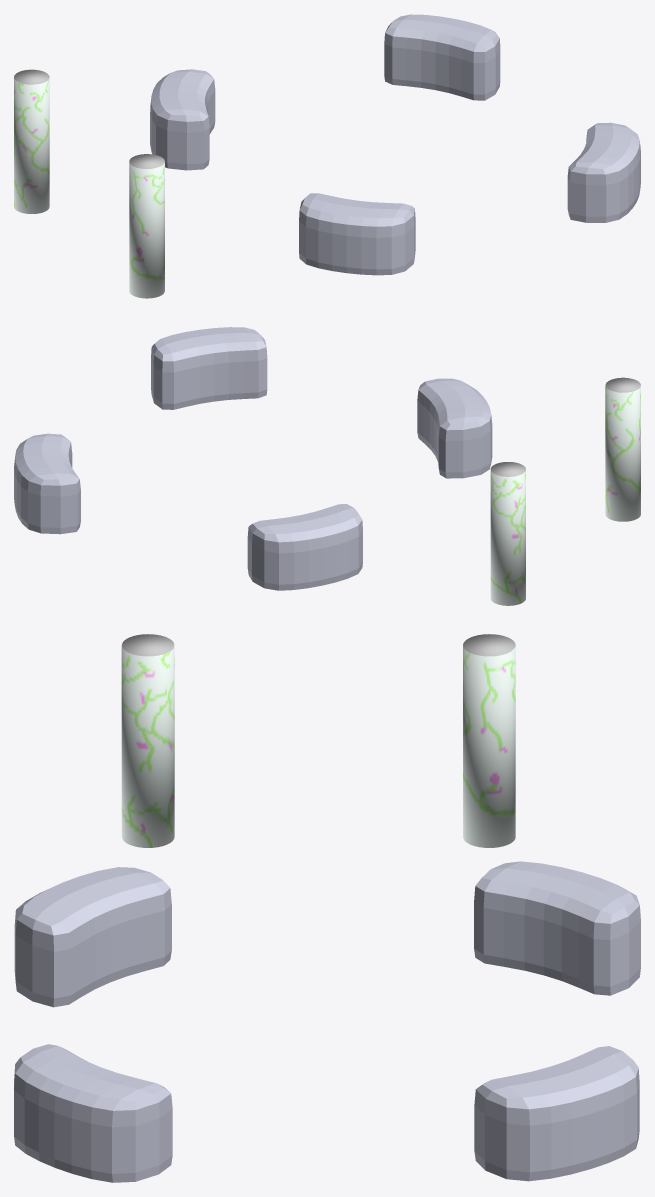
File: dev_ground.glb
3 renders of one model, top to bottom at view 1: azimuth 30°, elevation 25°; view 2: azimuth 150°, elevation 25°; view 3: azimuth 270°, elevation 25°, orthographic. The views are drawn at different scales.
Visible parts, largest first — view 1: Cube.003, Cube.001, Cube.002, Cube, Cylinder, Cylinder.001; view 2: Cube.002, Cube, Cube.003, Cube.001, Cylinder, Cylinder.001; view 3: Cube, Cube.001, Cube.002, Cube.003, Cylinder, Cylinder.001.
Part boxes in pixels (x1,y1,x2,y2): Cube.003: (299,193,415,275); Cube.001: (384,14,500,100); Cube.002: (567,122,640,222); Cube: (150,69,215,170); Cylinder: (129,154,164,298); Cylinder.001: (14,69,49,213); Cube.002: (151,327,267,409); Cube: (247,504,362,590); Cube.003: (417,378,492,478); Cube.001: (14,433,80,534); Cylinder: (605,377,640,521); Cylinder.001: (490,462,525,605); Cube: (474,861,640,995); Cube.001: (474,1046,639,1181); Cube.002: (14,1044,172,1182); Cube.003: (14,867,171,1007); Cylinder: (121,634,174,847); Cylinder.001: (463,634,515,847).
Size of what is drawn, in the model's own units: 32.02 by 8.06 by 23.73.
Materials: 2 (1 with a texture image).
